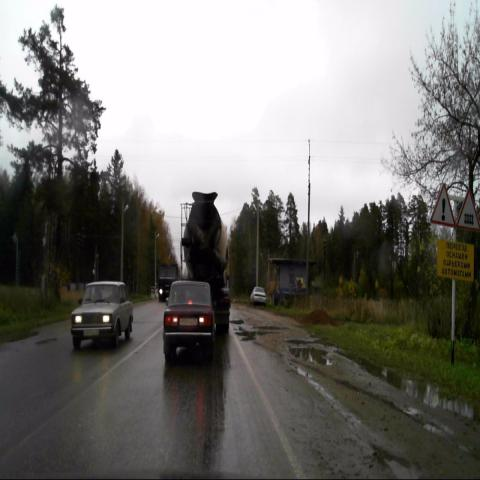1_1: (456, 188, 480, 232)
1_33: (430, 183, 456, 228)
